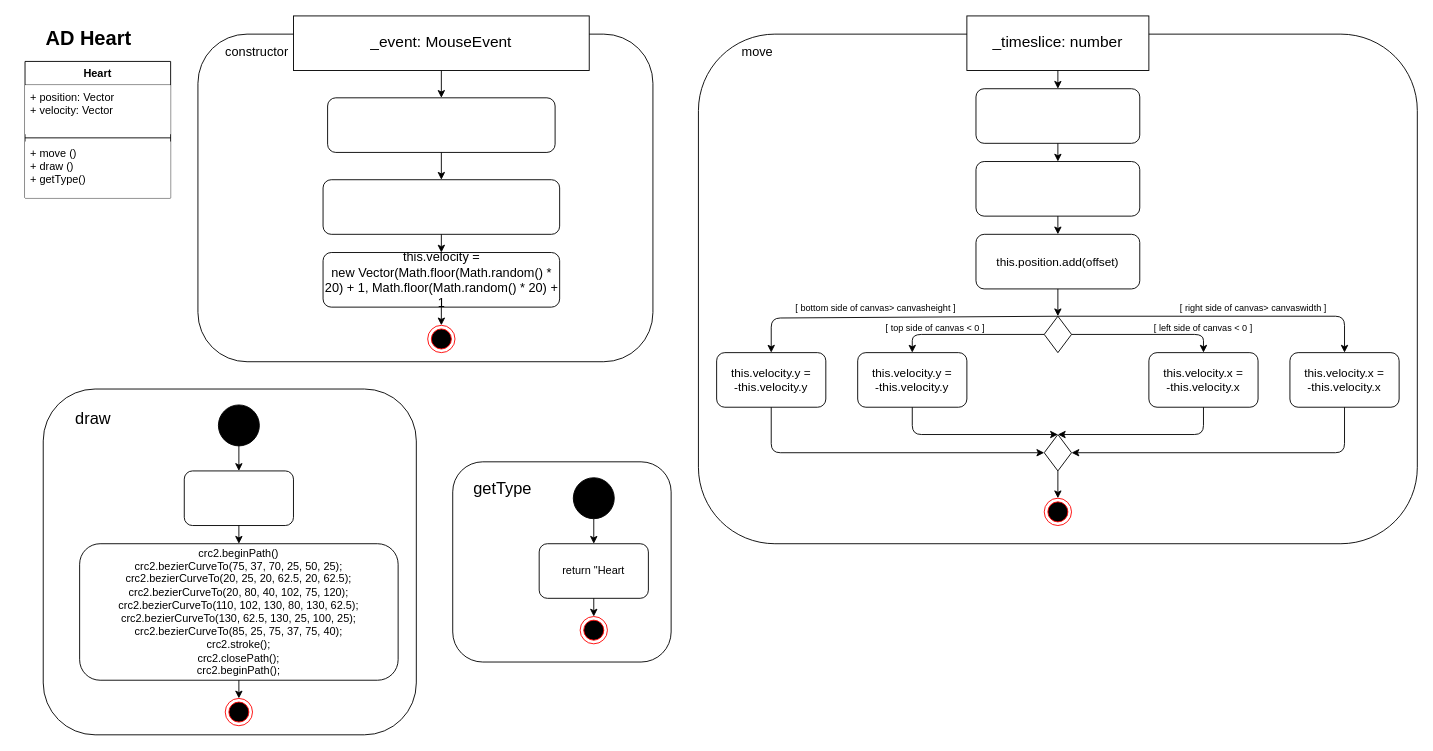
Some shapes in this 1433 by 751 pixel diagram are drawn without their labels. The centre of each missing label's shape, as x and y in pixels:
"crc2.beginPath()" goes at (238,498).
"let offset: Vector = this.velocity.copy()" goes at (1057,115).
"offset.scale(_timeslice)" goes at (1057,188).
"super(_event.offsetX, _event.offsetY)" goes at (441,124).
"this.position = new Vector(_event.offsetX - 75, _event.offsetY - 75)" goes at (441,206).
